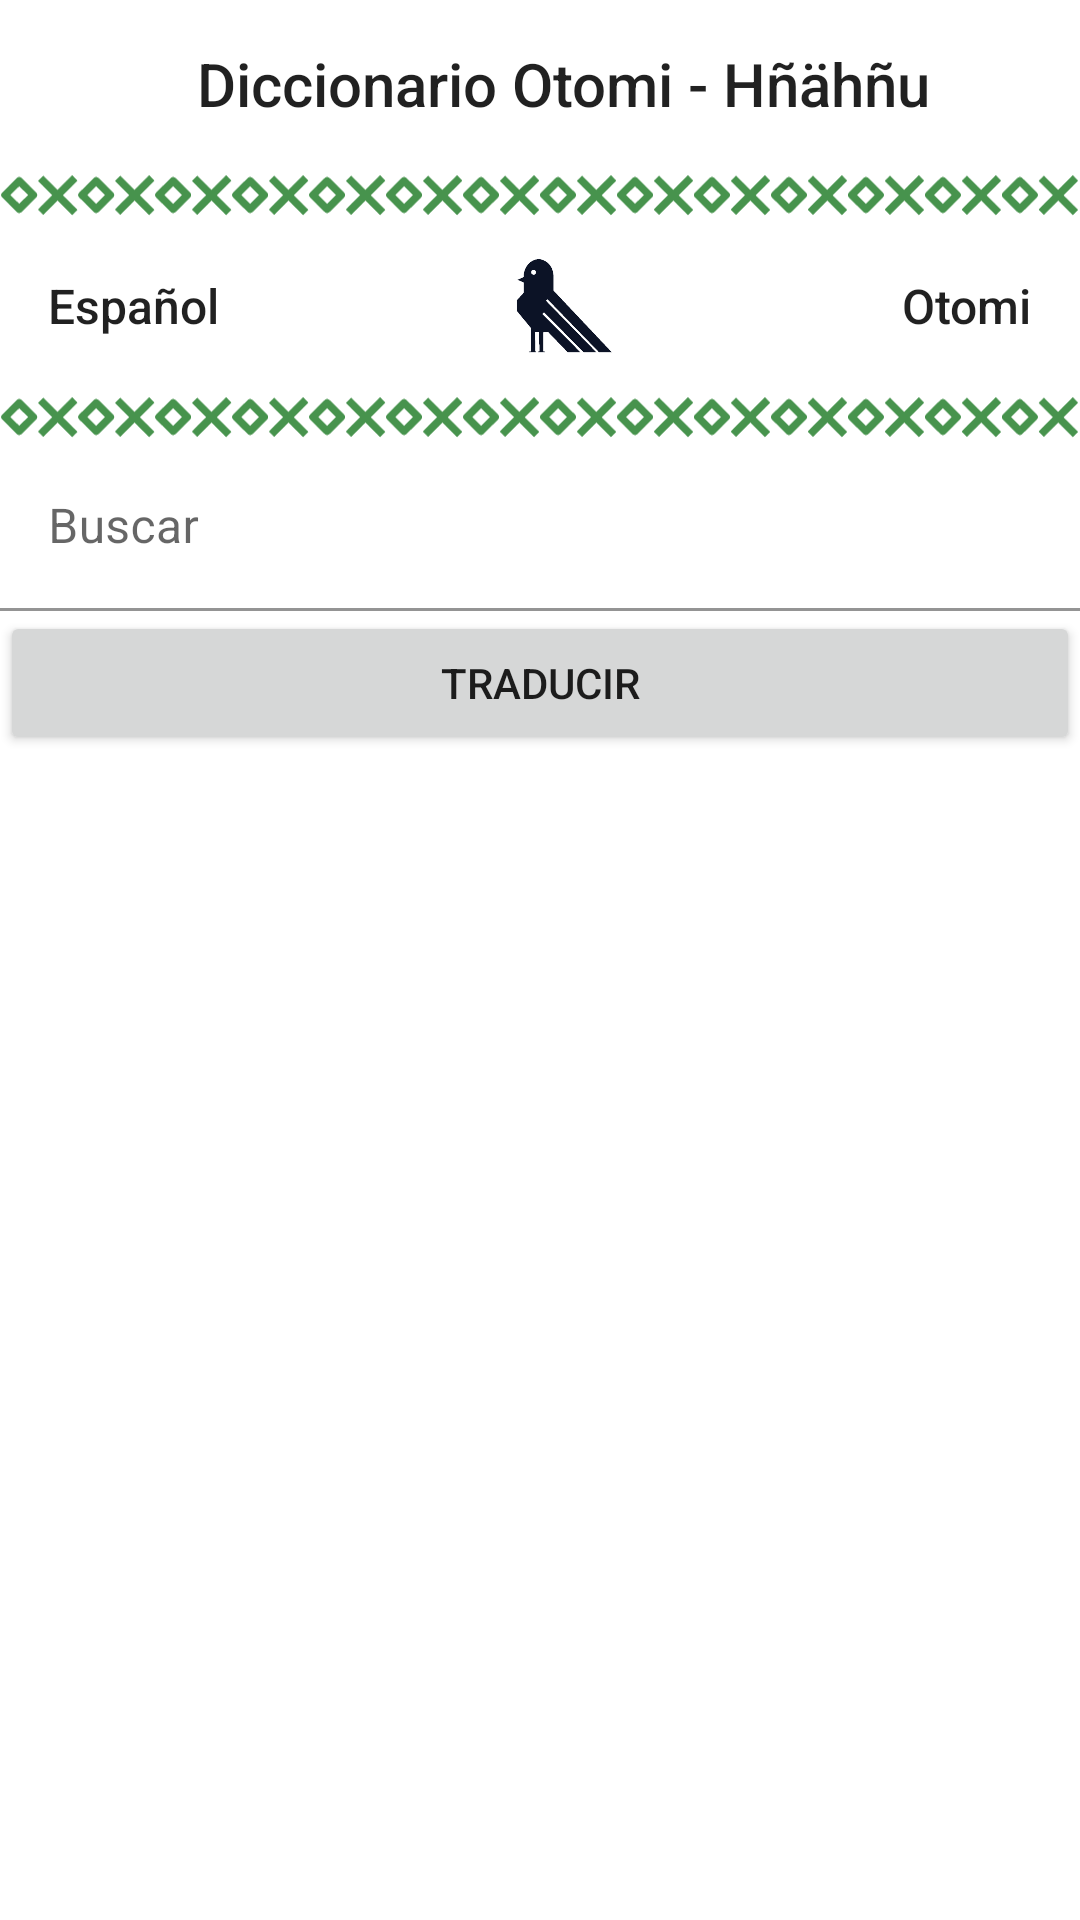

Where to tap for icons on this 1080w x 1920h app screen, as point (x, y):
bird left: point (564, 306)
